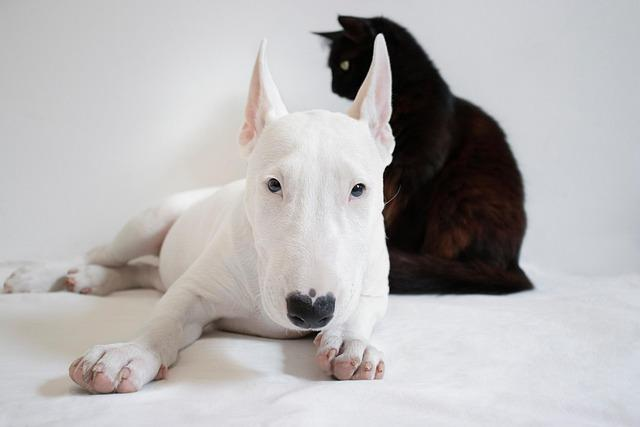Non_Gorille: (32, 7, 578, 387)
